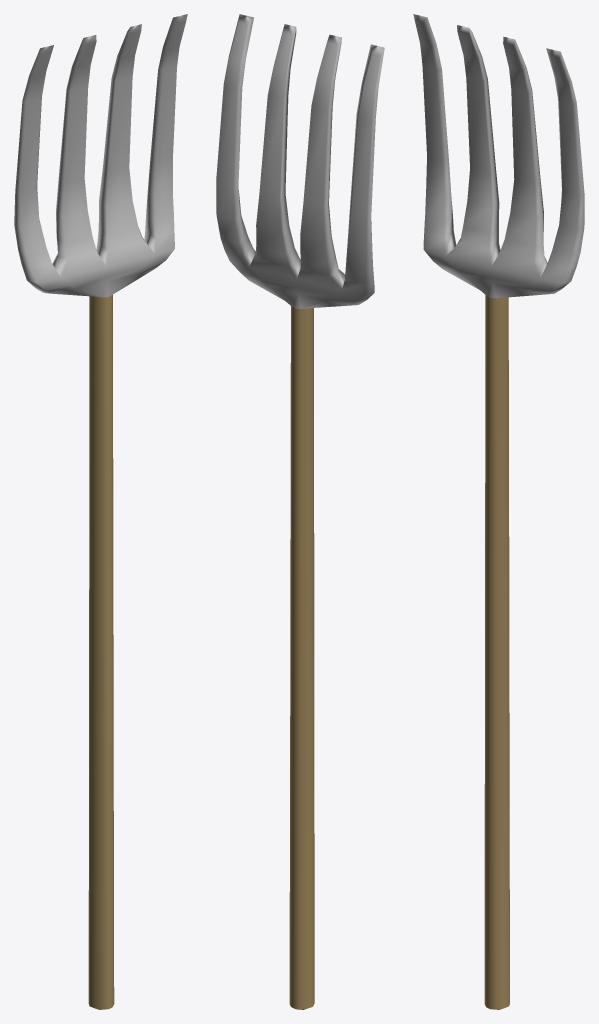
File: pitchfork.fbx
3 views of the same model, side by side, from view 1: azimuth 30°, elevation 25°; view 2: azimuth 150°, elevation 25°; view 3: azimuth 330°, elevation 25° (orthographic).
Visible parts, largest first — view 1: pCube2; view 2: pCube2; view 3: pCube2.
Boxes of the visible parts, left/top/right/bottom form: pCube2: left=14, top=14, right=187, bottom=1009; pCube2: left=216, top=14, right=384, bottom=1009; pCube2: left=413, top=14, right=584, bottom=1009.
Bounding box in the file's own units: 0.3206 × 1.9 × 0.0821.
